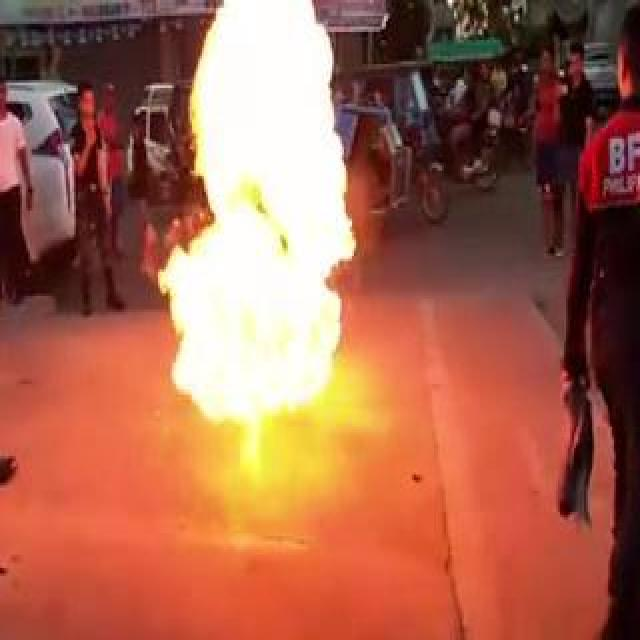Fire: (130, 3, 356, 408)
